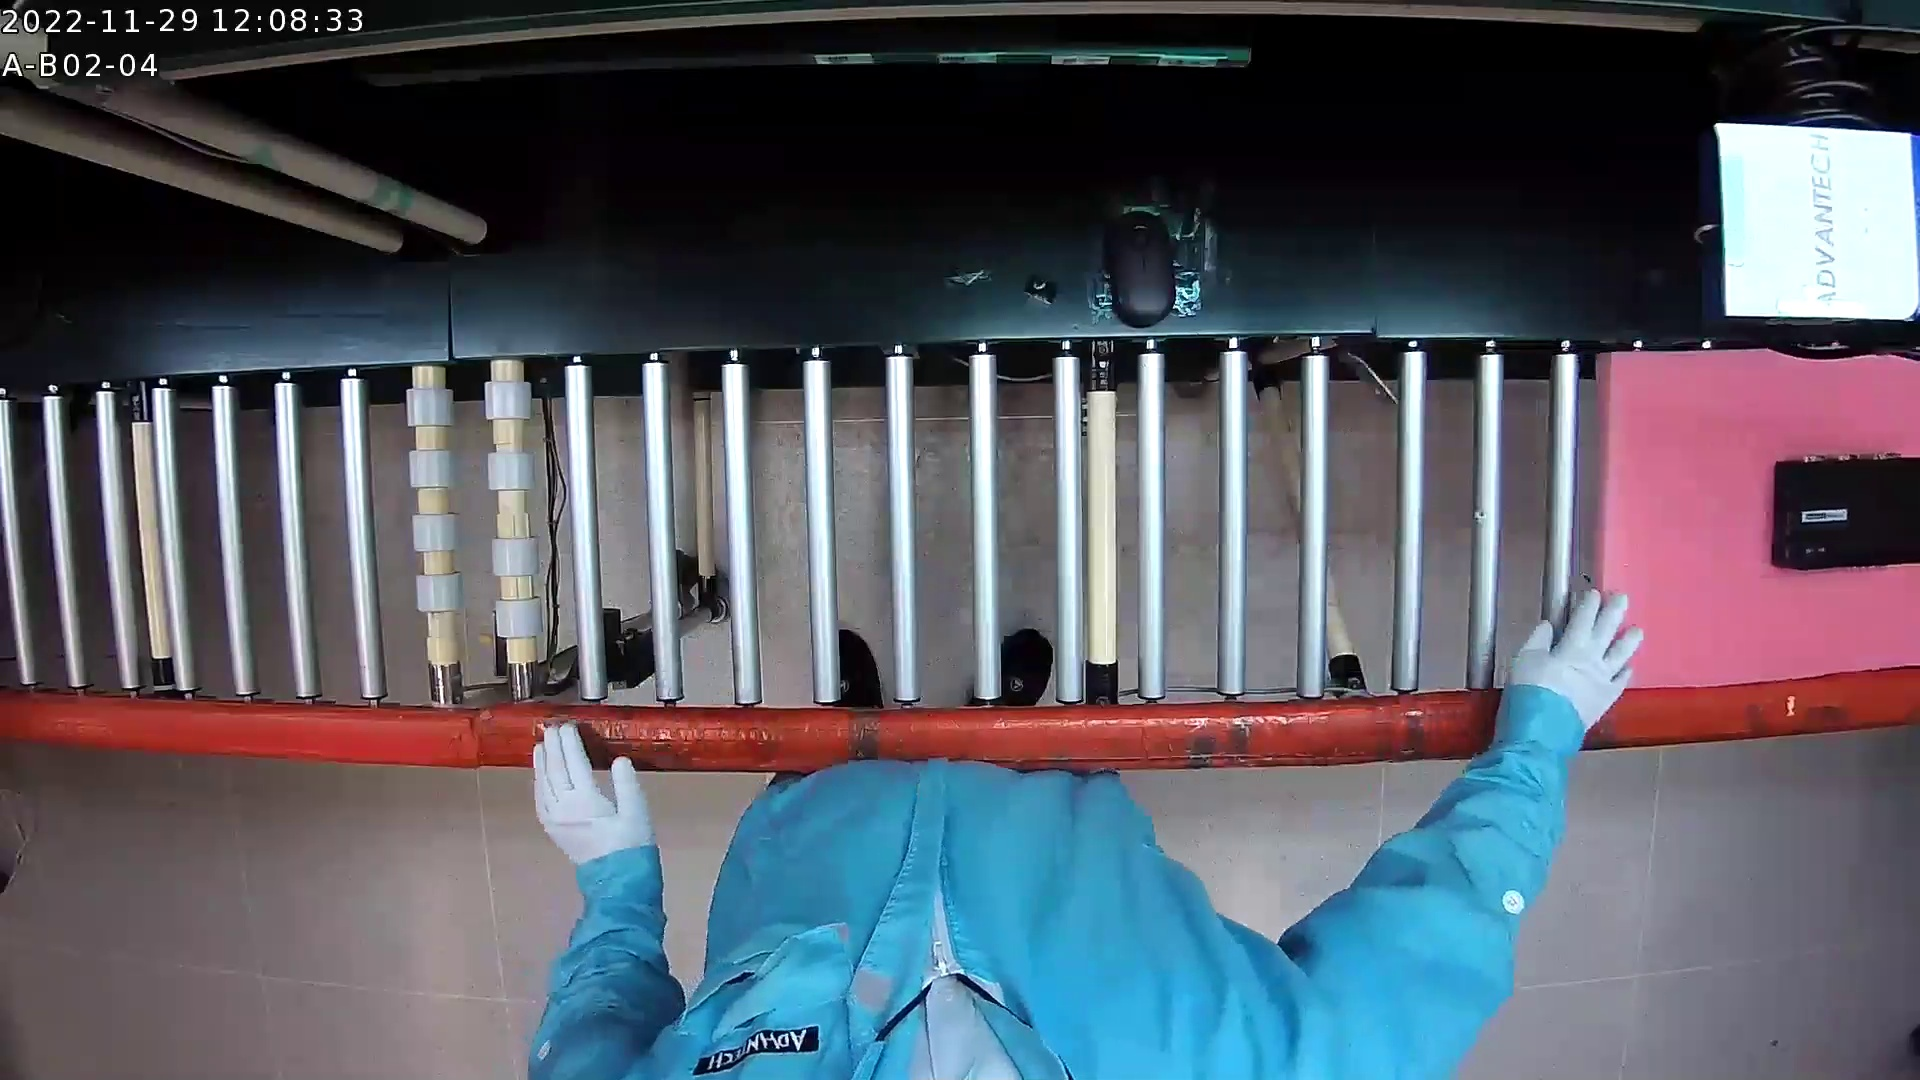foam: (1592, 340, 1917, 683)
hand: (1331, 581, 1657, 1030), (514, 716, 690, 1080)
people: (494, 569, 1667, 1080)
